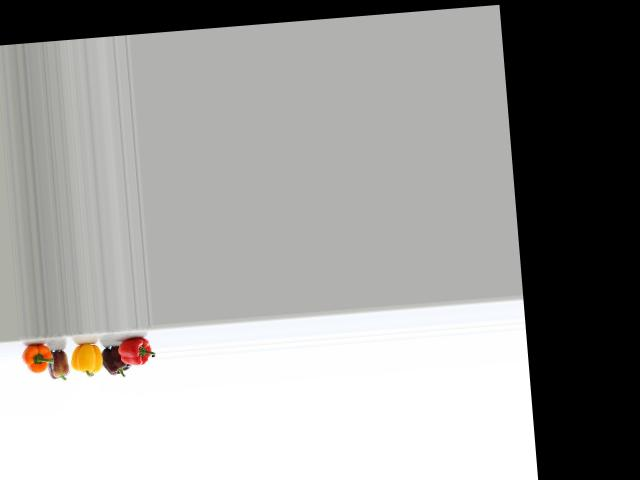bell_pepper: (20, 339, 55, 383)
